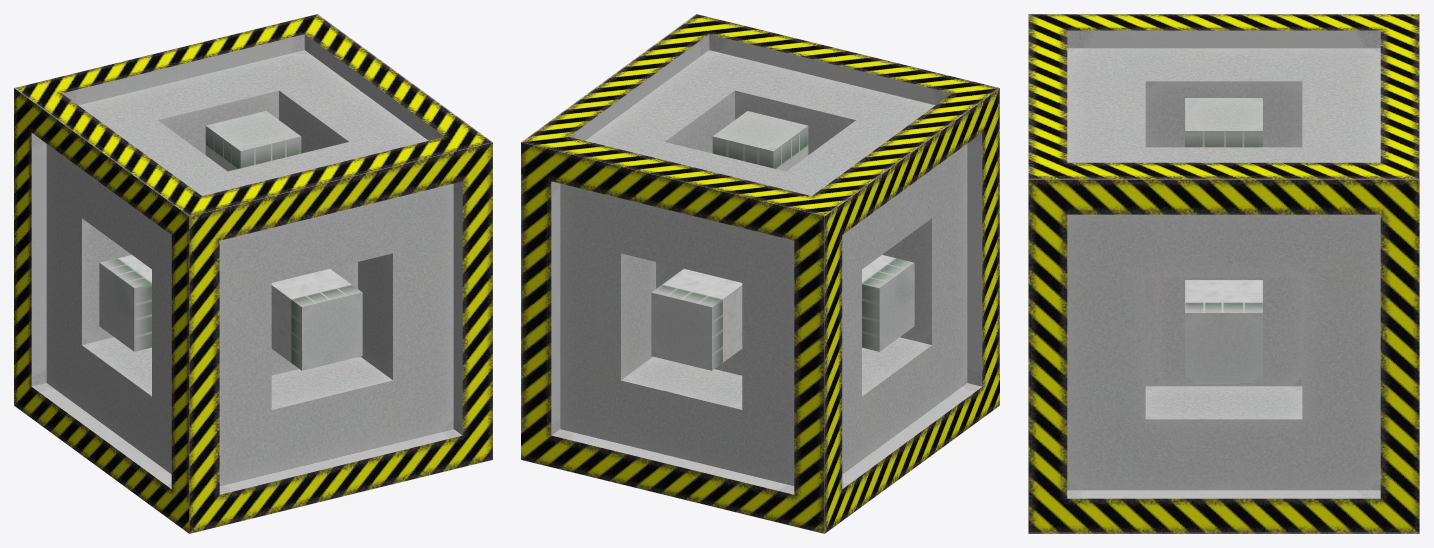
The model's file is ZCUBO.glb.gltf.
The picture shows the model from 3 angles, left to right: view 1: azimuth 30°, elevation 25°; view 2: azimuth 150°, elevation 25°; view 3: azimuth 270°, elevation 25°; orthographic projection. The views are drawn at different scales.
Parts seen in each view (by area): view 1: CPU; view 2: CPU; view 3: CPU.
Boxes of the visible parts, x1,y1,x2,y2 form: CPU: (14, 14, 492, 533); CPU: (521, 14, 999, 533); CPU: (1028, 14, 1419, 533).
Size of the model in its own units: 2 by 2 by 2.
Materials: 1 (1 with a texture image).
